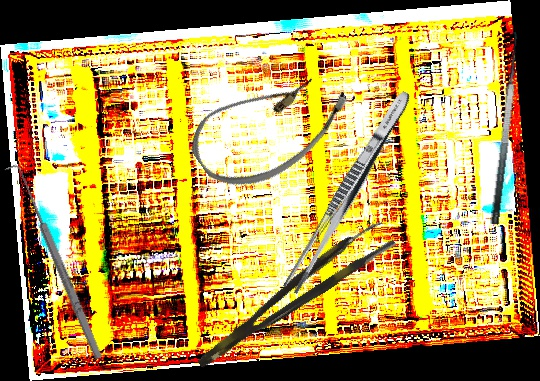Cannula: (179, 43, 361, 209)
Dressing Forceps: (281, 86, 416, 297)
Hook Surgical: (3, 161, 106, 364)
Spatula Surgical: (473, 30, 528, 225)
Tissue Forceps: (185, 217, 397, 371)
